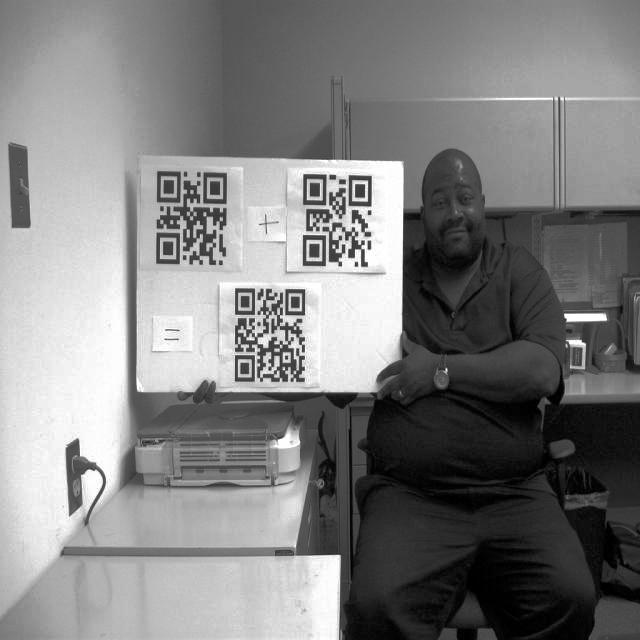qr_code: (156, 171, 226, 264), (235, 288, 304, 381), (303, 174, 372, 266)
